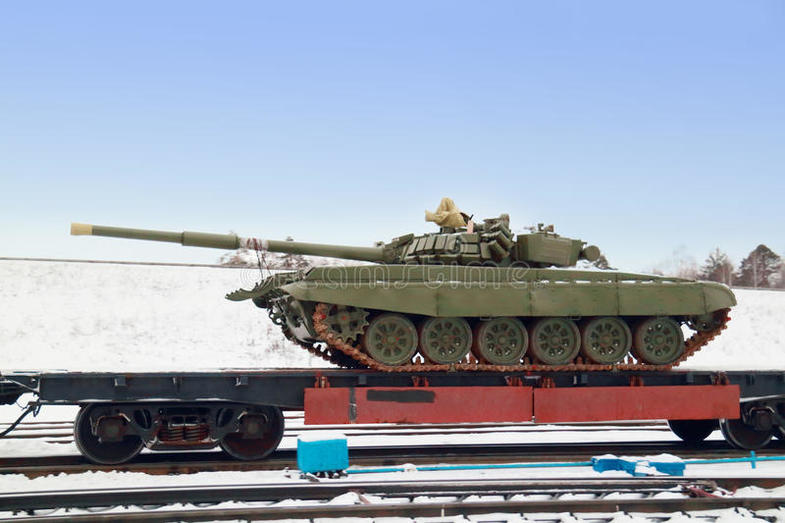t72: (70, 212, 731, 365)
